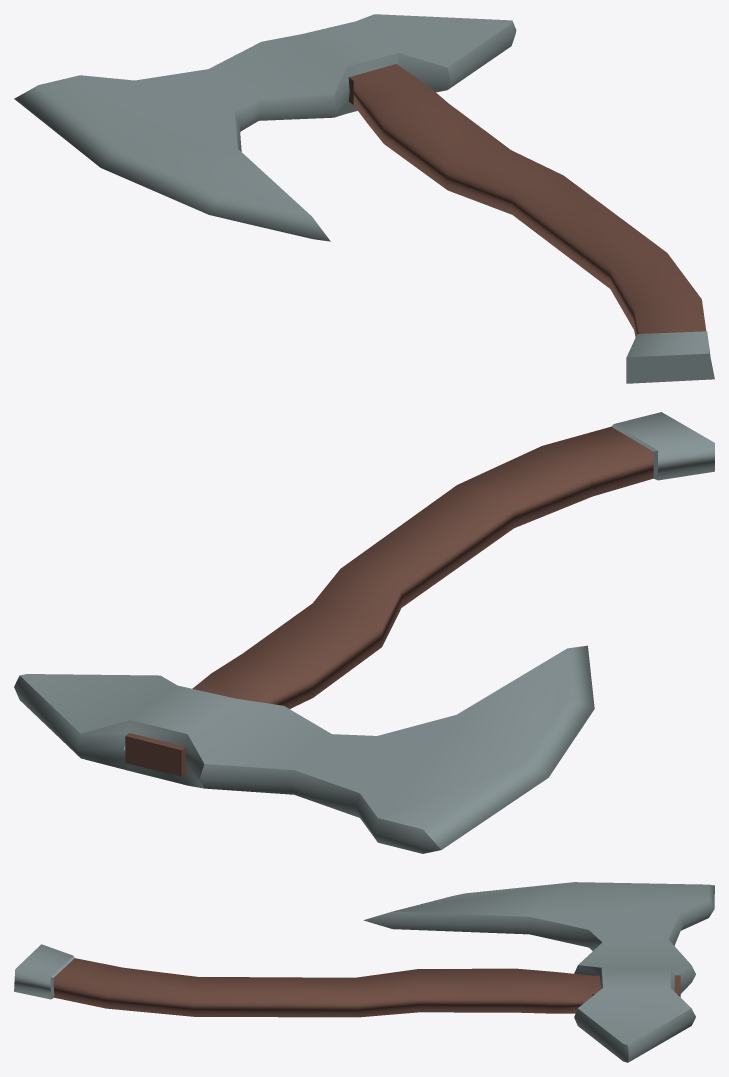
File: Hacha.FBX
3 renders of one model, top to bottom at view 1: azimuth 30°, elevation 25°; view 2: azimuth 150°, elevation 25°; view 3: azimuth 270°, elevation 25°, orthographic. The views are drawn at different scales.
Parts seen in each view (by area): view 1: Hacha; view 2: Hacha; view 3: Hacha.
Part boxes in pixels (bbox=[...]): Hacha: bbox=[14, 14, 714, 383]; Hacha: bbox=[14, 412, 714, 853]; Hacha: bbox=[14, 882, 714, 1062].
Bounding box in the file's own units: 89.92 × 8.91 × 154.
